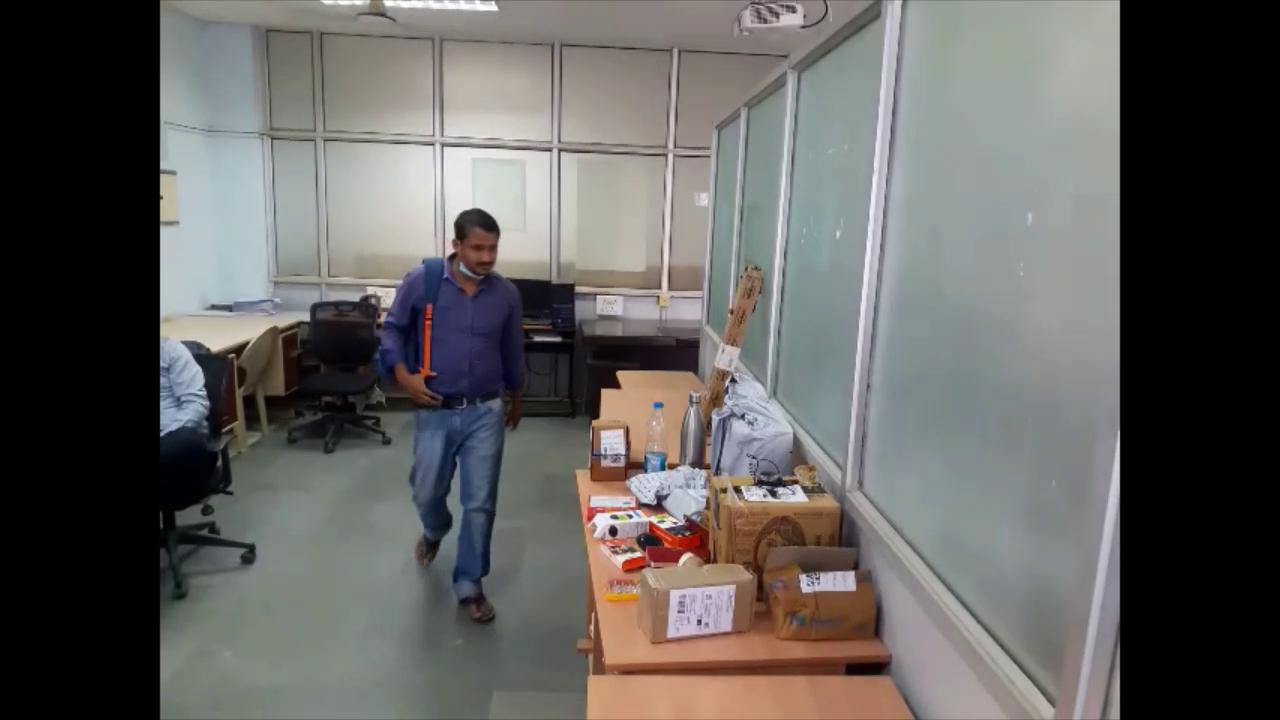Normal: (369, 202, 540, 647)
